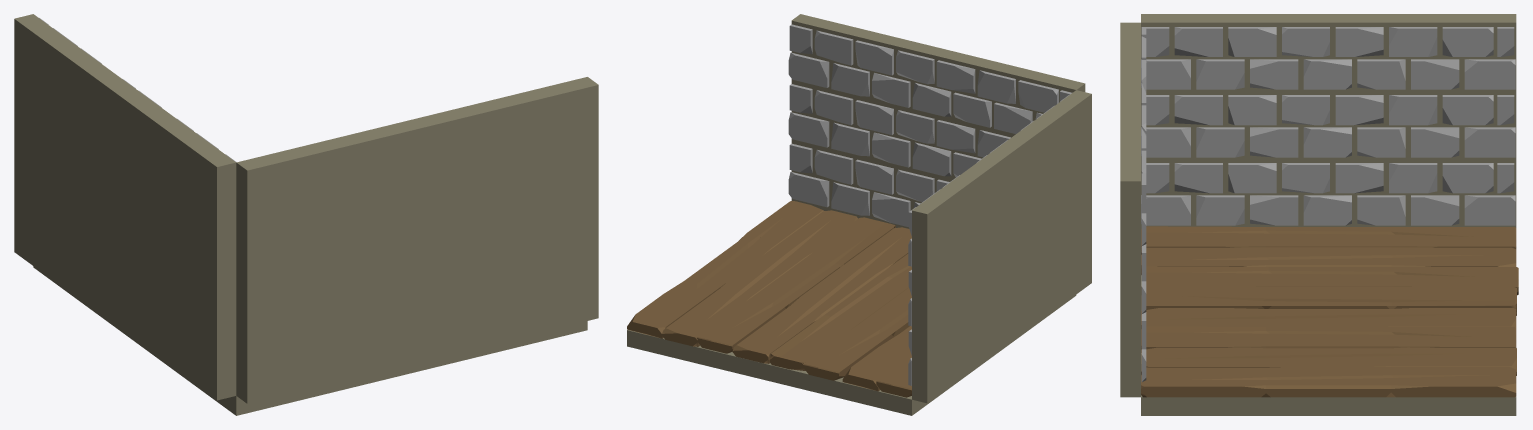
The model's file is Woodroom.fbx.
3 views of the same model, side by side, from view 1: azimuth 30°, elevation 25°; view 2: azimuth 150°, elevation 25°; view 3: azimuth 270°, elevation 25° (orthographic). The views are drawn at different scales.
Parts seen in each view (by area): view 1: PlaneRoom; view 2: PlaneRoom, PlaneWood, PlaneRock.2, PlaneRock.1; view 3: PlaneWood, PlaneRock.1, PlaneRoom, PlaneRock.2.
Boxes of the visible parts, box(x1,y1,x2,y2) form: PlaneRoom: box(14, 14, 598, 415); PlaneRoom: box(627, 14, 1091, 415); PlaneWood: box(627, 201, 911, 397); PlaneRock.2: box(788, 24, 1071, 226); PlaneRock.1: box(908, 92, 1072, 385); PlaneWood: box(1141, 226, 1518, 397); PlaneRock.1: box(1141, 27, 1515, 225); PlaneRoom: box(1120, 14, 1516, 415); PlaneRock.2: box(1141, 28, 1146, 381).
Bounding box in the file's own units: 635 × 414 × 636.
